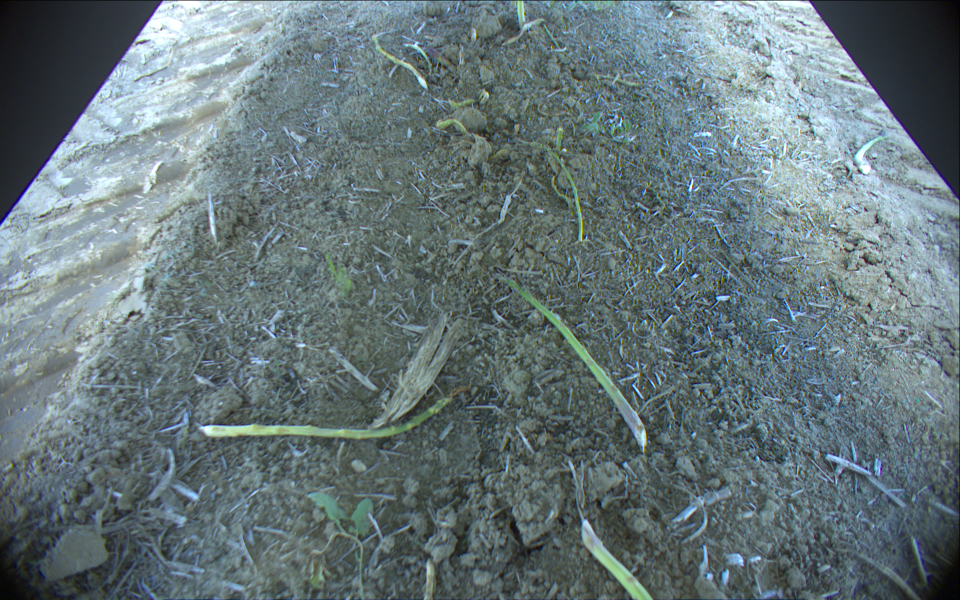aspa: (491, 271, 648, 450), (201, 398, 454, 440), (580, 519, 653, 600), (529, 140, 586, 243), (372, 29, 427, 90), (854, 129, 892, 176), (592, 72, 643, 90), (436, 119, 471, 134), (447, 98, 486, 111), (515, 1, 527, 31), (556, 128, 567, 154)
